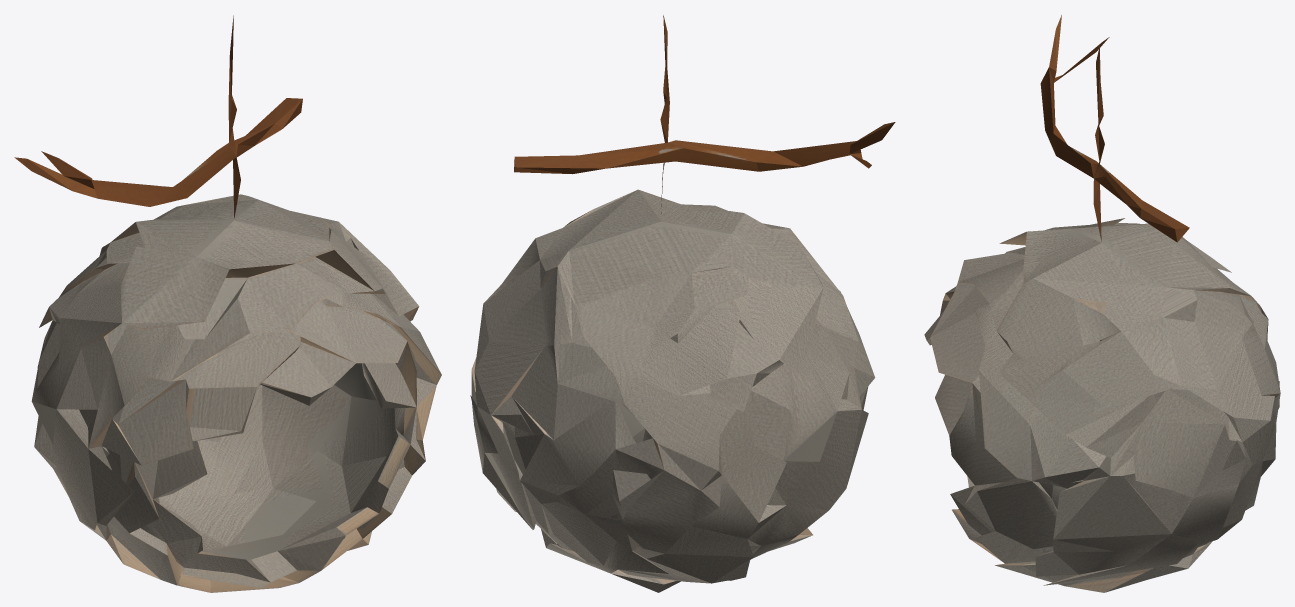
Rendered from wasp_nest.glb.
The picture shows the model from 3 angles, left to right: view 1: azimuth 30°, elevation 25°; view 2: azimuth 150°, elevation 25°; view 3: azimuth 270°, elevation 25°; orthographic projection. The views are drawn at different scales.
Size of the model in its own units: 1.37 by 1.9 by 1.15.
1 material, 1 textured.
